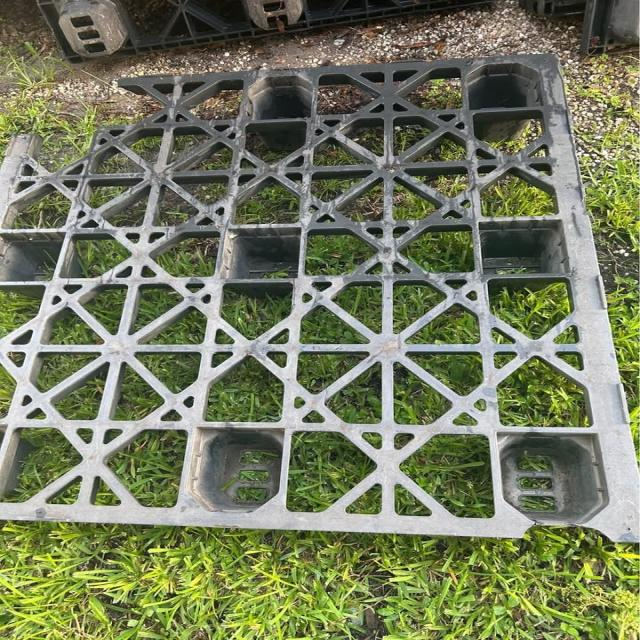non-igps: (0, 49, 640, 552), (22, 0, 498, 67)
